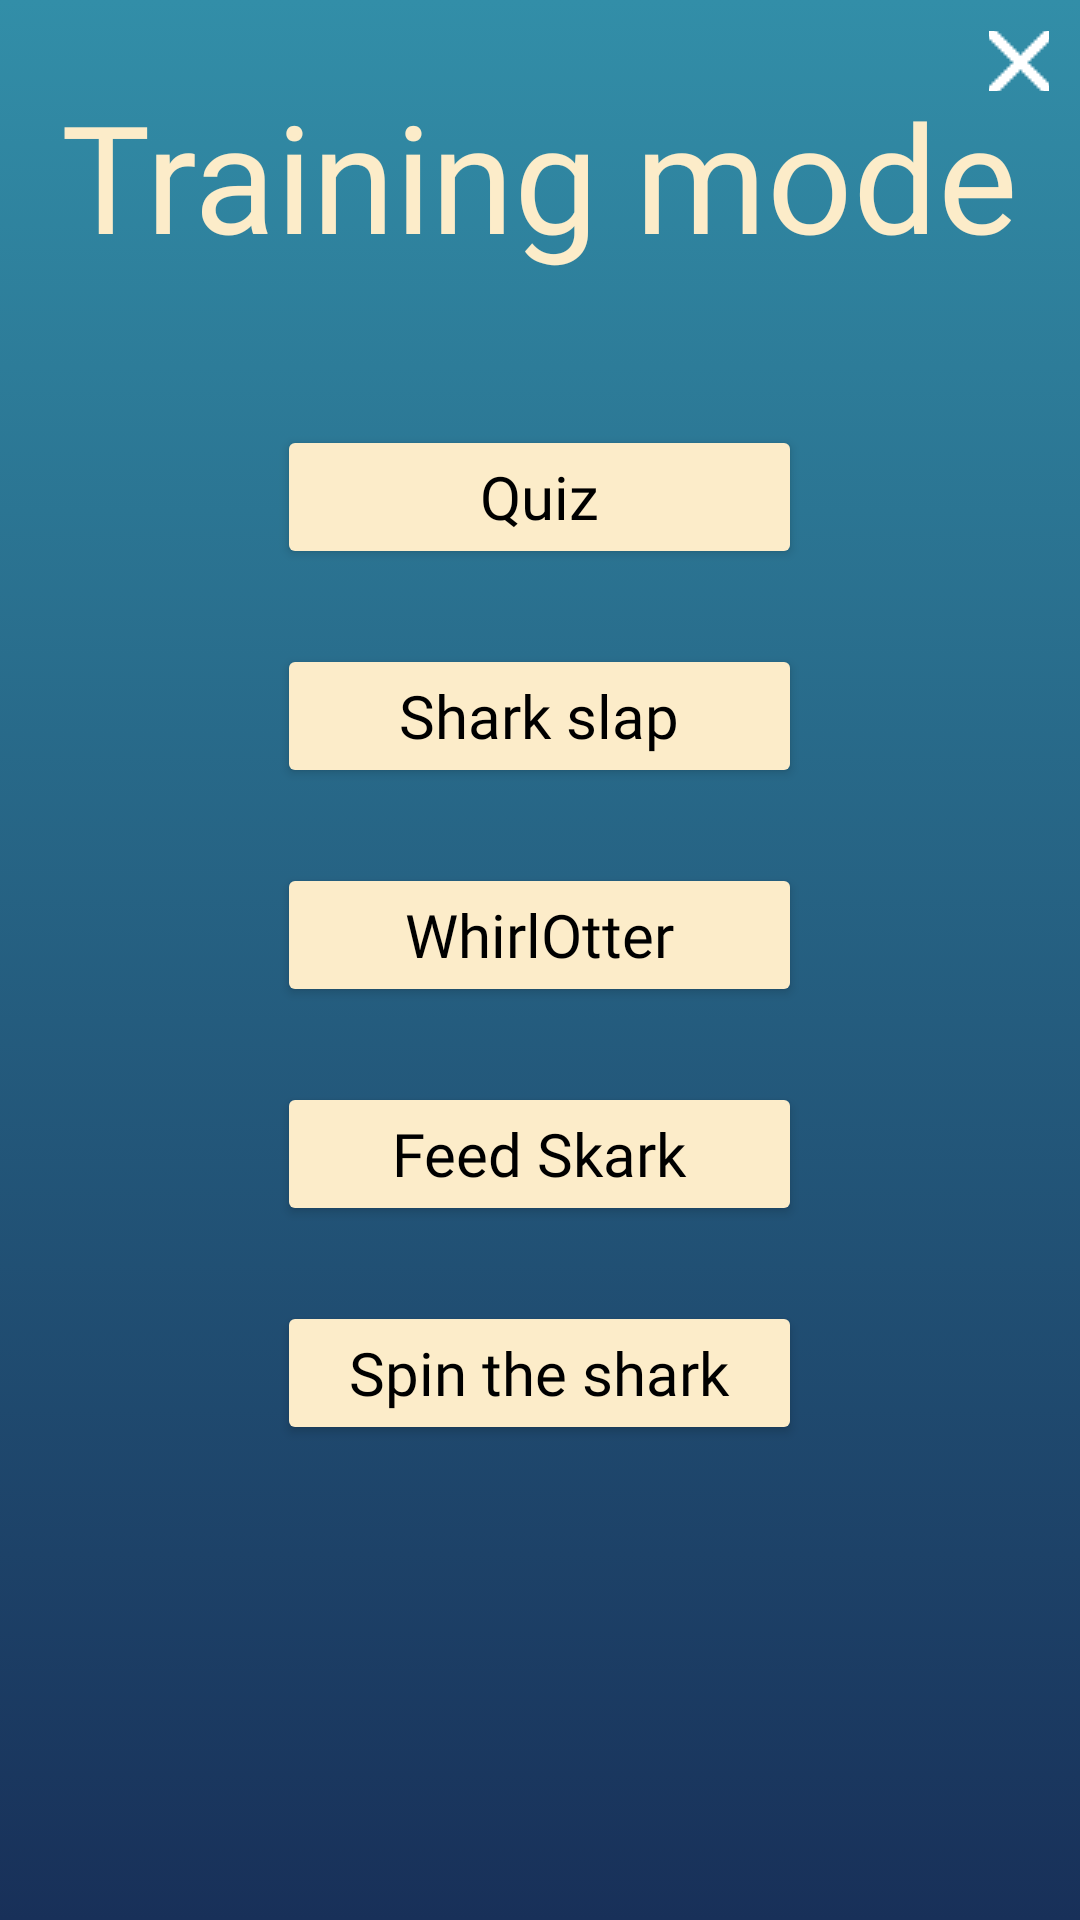

Where to tap for icons on this 1080*1920 app screen, as (x,y):
exit: (1019,61)
